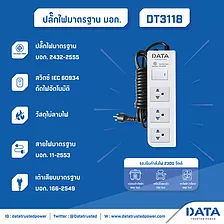Three_eye_plug: (136, 43, 180, 151)
